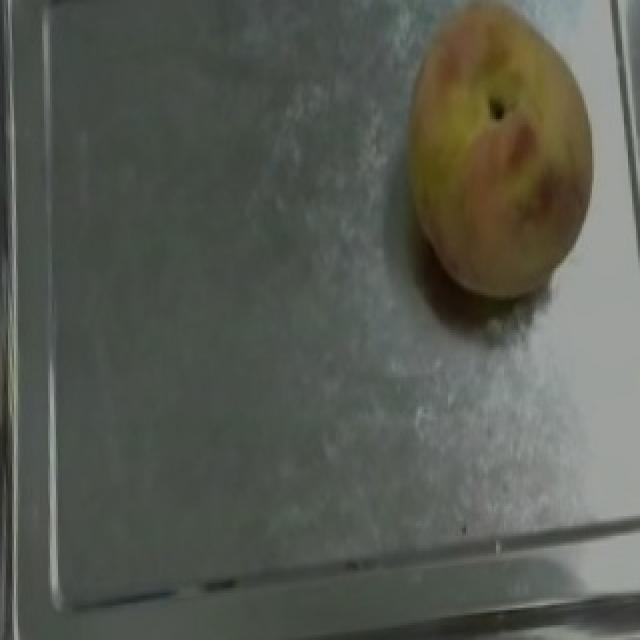Fruit: (368, 0, 620, 318)
